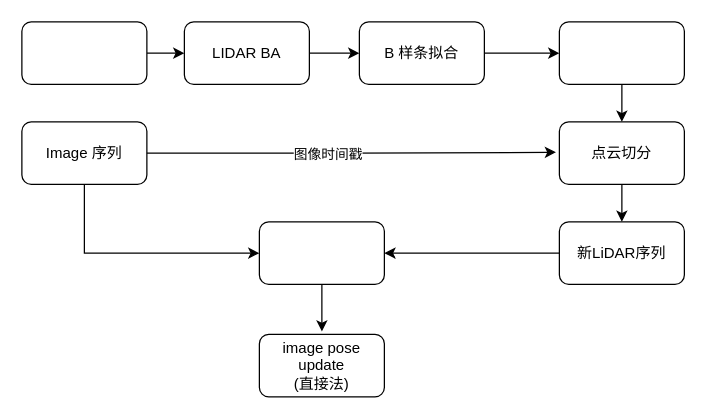
The diagram is 706 pixels wide and 419 high, and some of its shapes have lost their labels. Each missing label, with the box of its shape:
image pose update (intensity): (258, 221, 384, 284)
LiDAR 序列: (21, 21, 147, 84)
连续pose: (558, 21, 684, 84)
